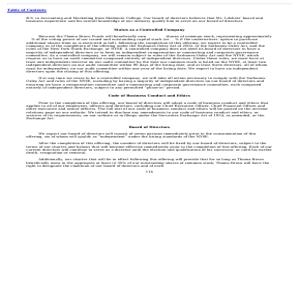text: (4, 6, 273, 169)
